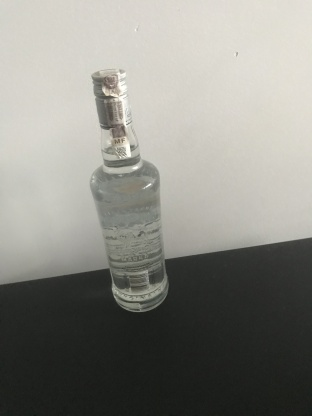nakretka: (90, 65, 133, 130)
